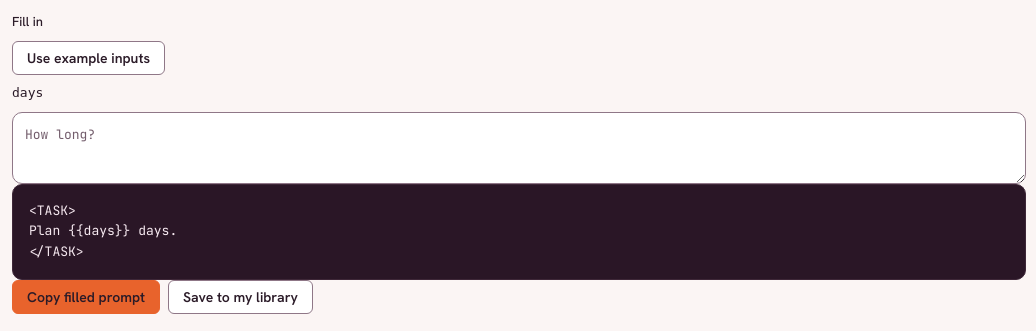
Scenario: TemplateFiller › fills fixed sections with hints and example inputs
Click the button "Use example inputs": coordinates (88, 58) x1=12 y1=41 x2=165 y2=75
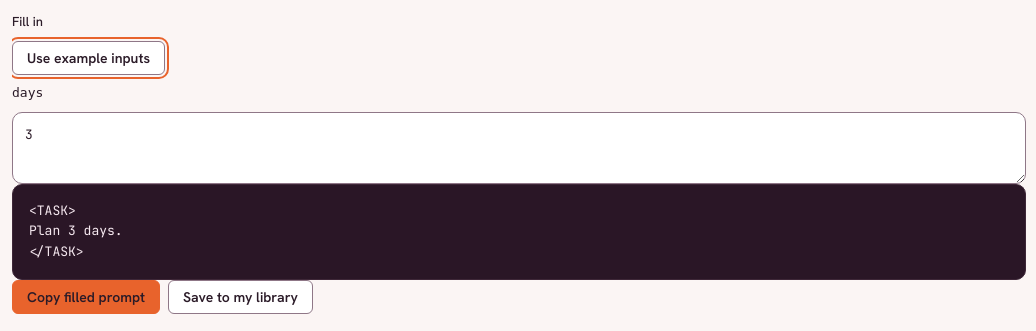
Expected: the text named "Filled prompt" shows "Plan 3 days.", x1=29 y1=202 x2=123 y2=260
